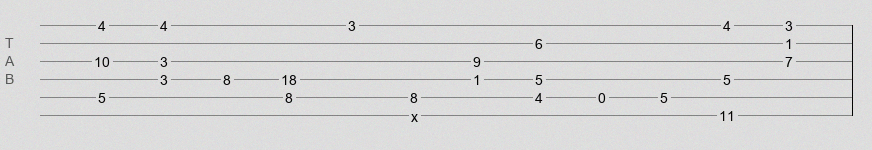0: (598, 90, 606, 100)
1: (473, 72, 481, 82), (785, 36, 793, 46)
10: (94, 54, 110, 64)
11: (719, 108, 735, 118)
18: (281, 72, 297, 82)
3: (160, 54, 168, 64), (160, 72, 168, 82), (348, 18, 356, 28), (785, 18, 793, 28)
4: (98, 18, 106, 28), (160, 18, 168, 28), (535, 90, 543, 100), (723, 18, 731, 28)
5: (98, 90, 106, 100), (535, 72, 543, 82), (660, 90, 668, 100), (723, 72, 731, 82)
6: (535, 36, 543, 46)
7: (785, 54, 793, 64)
8: (223, 72, 231, 82), (285, 90, 293, 100), (410, 90, 418, 100)
9: (473, 54, 481, 64)
x: (411, 109, 418, 117)
